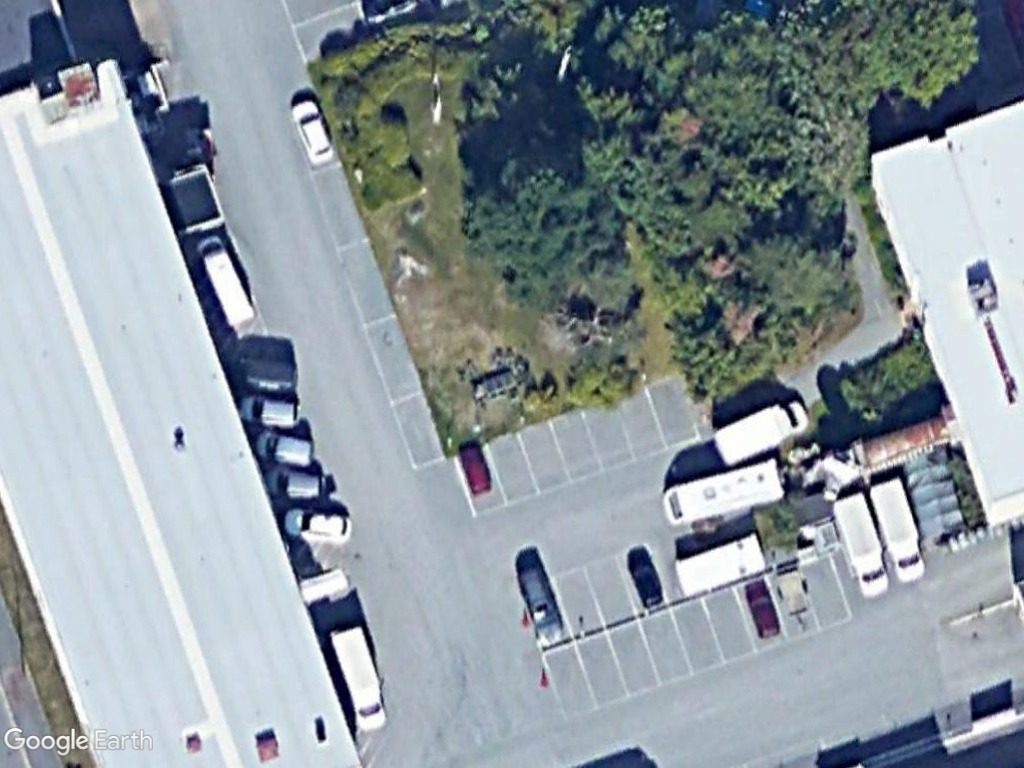car: (512, 554, 566, 640), (285, 90, 338, 173), (279, 498, 358, 548), (235, 385, 308, 435), (738, 573, 785, 644), (622, 547, 668, 616), (246, 425, 321, 467), (263, 459, 332, 502), (454, 435, 497, 501)
van: (326, 614, 395, 740), (709, 391, 813, 467), (826, 484, 894, 600), (190, 229, 258, 336), (869, 469, 930, 586)
